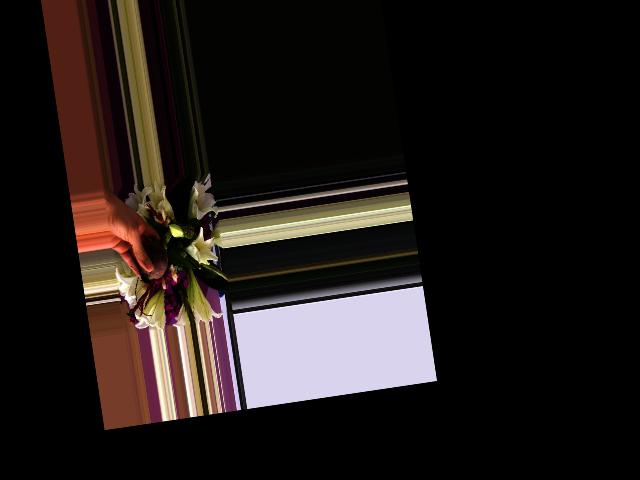beet: (133, 227, 177, 285)
